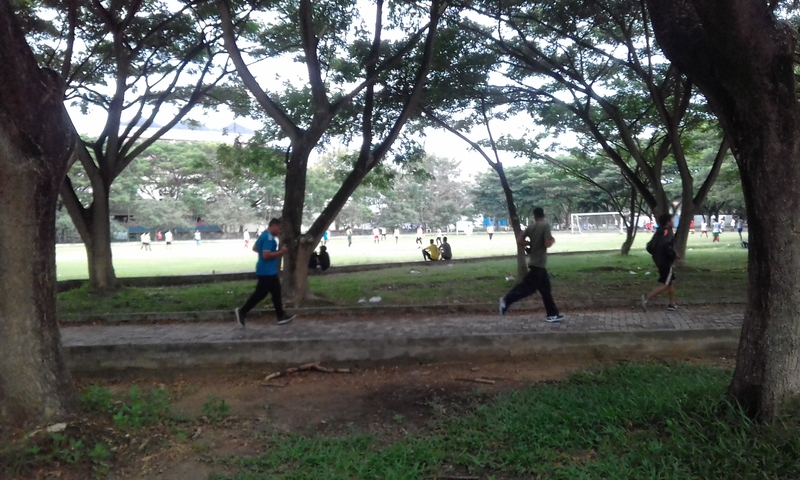person: (496, 204, 567, 326), (231, 213, 300, 332), (637, 210, 686, 318)
